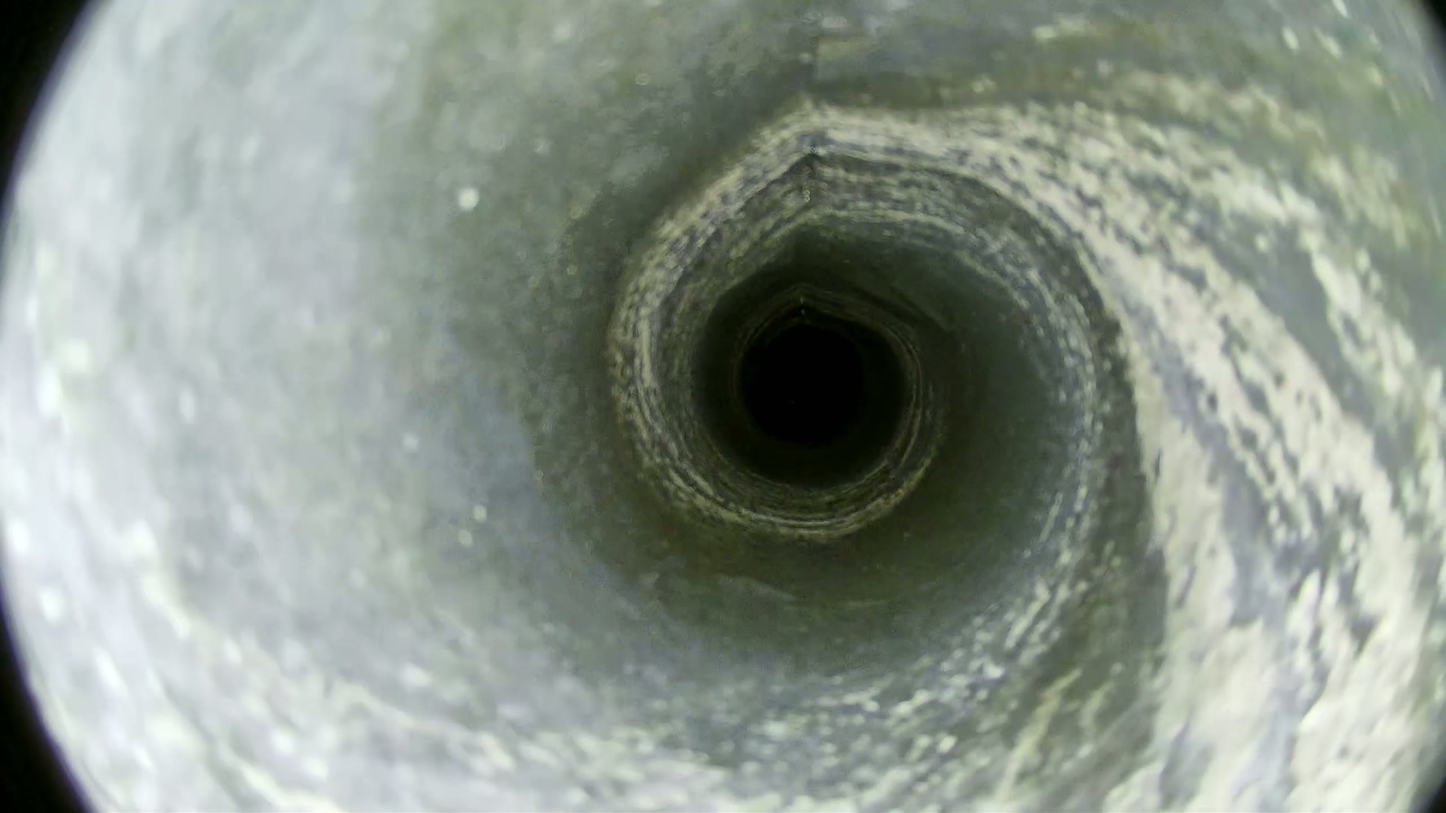hole: (747, 326, 863, 444)
